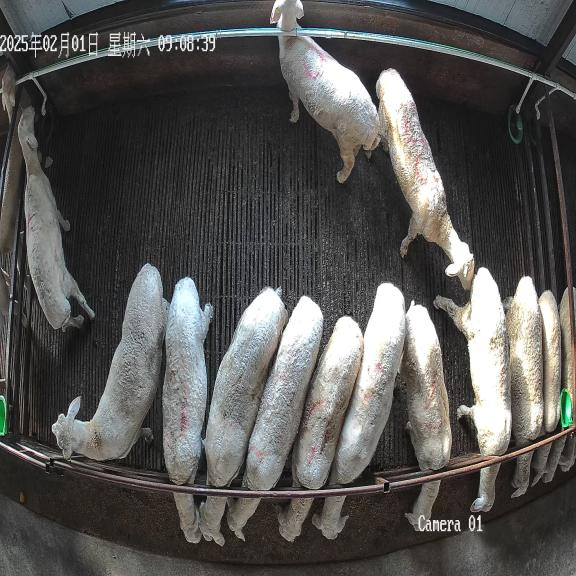eating: (312, 282, 406, 539), (227, 296, 323, 541), (199, 287, 287, 546), (276, 316, 363, 542), (434, 268, 511, 512), (163, 277, 213, 543), (400, 301, 452, 530), (504, 276, 543, 497), (531, 290, 561, 486)
stand: (52, 264, 168, 461), (376, 68, 474, 289), (270, 0, 381, 183), (18, 107, 95, 331)
